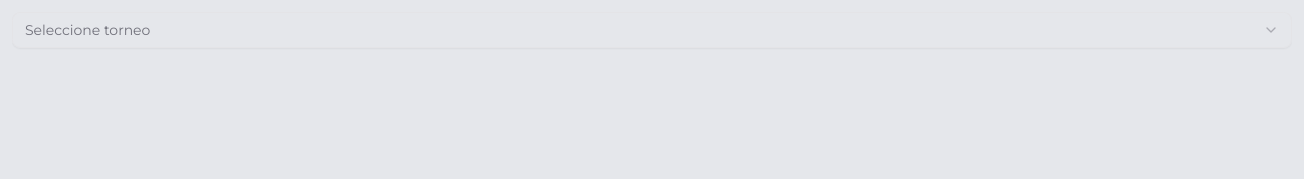
Test case: Tests on <TournamentsSelector /> › Should show "Sin torneo" when includeNoTournament is true
This screenshot has width=1304, height=179.
Click the dropdown at coordinates (88, 30), box 12,12 -> 1292,48
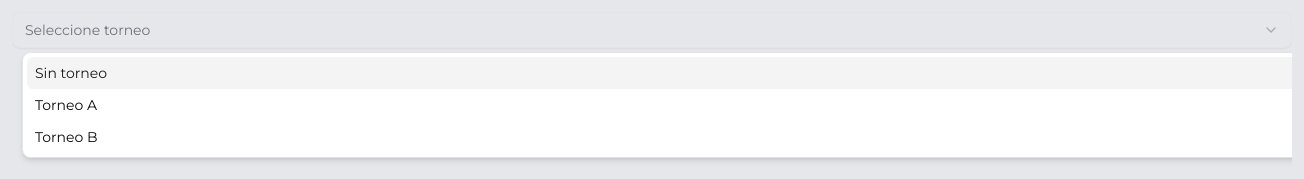
Now the text "Sin torneo" is shown, box 35,63 -> 107,83
